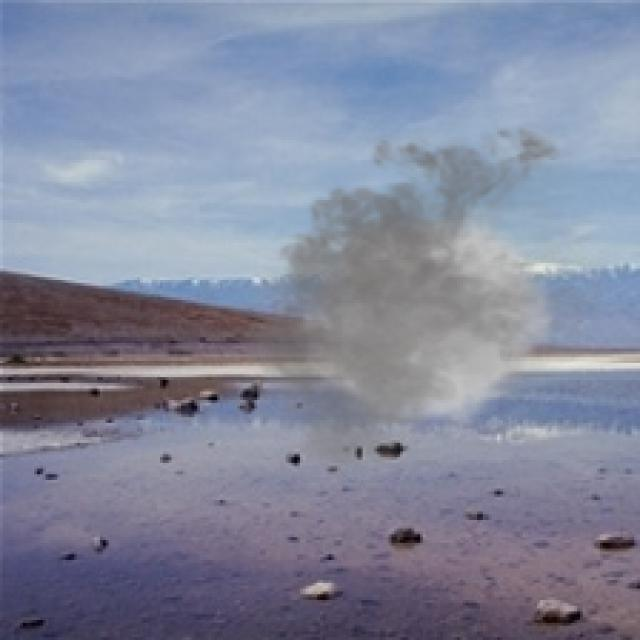Smoke: (225, 114, 626, 483)
